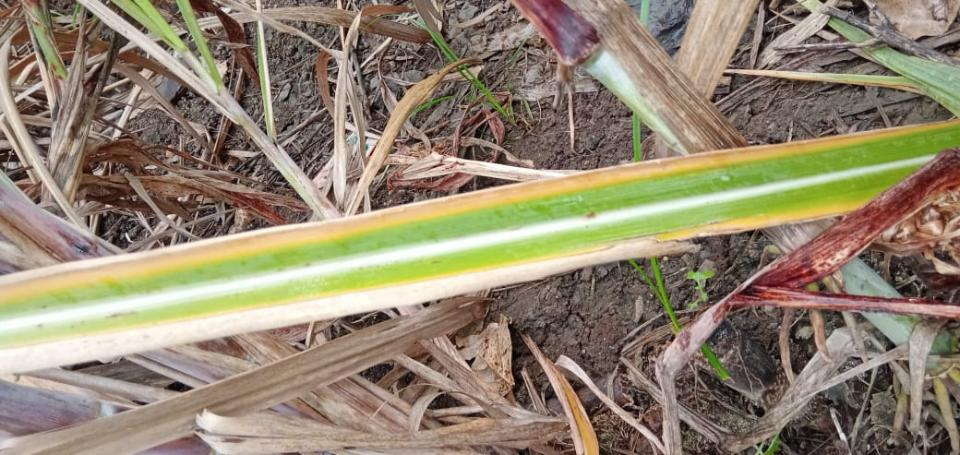Rust: (104, 310, 139, 318), (586, 211, 597, 220), (430, 259, 444, 265), (303, 262, 311, 268), (40, 304, 48, 310), (36, 324, 44, 329)
Yellow: (0, 121, 959, 305), (0, 243, 607, 349), (661, 200, 862, 243)
